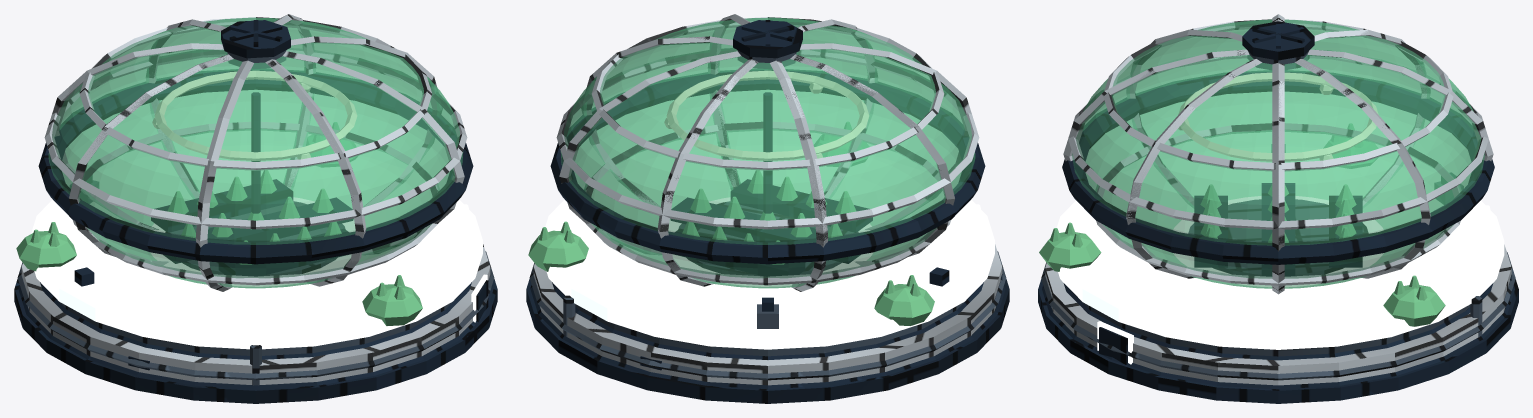
The model's file is HydroponicsDome.fbx.
3 renders of one model, left to right at view 1: azimuth 30°, elevation 25°; view 2: azimuth 150°, elevation 25°; view 3: azimuth 270°, elevation 25°, orthographic.
Visible parts, largest first — view 1: Hydro_Dome, Hydro_RimRing, Hydro_Ring_02, Hydro_BaseTier, Hydro_Plinth, Hydro_Ring_03, Hydro_Ring_04, Hydro_Ring_01, Hydro_TrimRing, Hydro_GrowRing, Hydro_Rib_08, Hydro_Rib_01 (+18 smaller); view 2: Hydro_Dome, Hydro_RimRing, Hydro_Ring_02, Hydro_BaseTier, Hydro_Plinth, Hydro_Ring_03, Hydro_Ring_04, Hydro_Ring_01, Hydro_TrimRing, Hydro_GrowRing, Hydro_Rib_04, Hydro_MidTier (+19 smaller); view 3: Hydro_Dome, Hydro_RimRing, Hydro_Ring_02, Hydro_BaseTier, Hydro_Plinth, Hydro_Ring_01, Hydro_Ring_04, Hydro_Ring_03, Hydro_TrimRing, Hydro_Floor, Hydro_Rib_04, Hydro_GrowRing (+19 smaller).
Boxes of the visible parts, x1,y1,x2,y2 form: Hydro_Dome: (48,17,463,288); Hydro_RimRing: (31,145,482,349); Hydro_Ring_02: (38,69,473,264); Hydro_BaseTier: (21,244,490,384); Hydro_Plinth: (14,279,497,403); Hydro_Ring_03: (44,48,467,229); Hydro_Ring_04: (79,17,432,170); Hydro_Ring_01: (73,121,439,285); Hydro_TrimRing: (17,251,494,380); Hydro_GrowRing: (154,70,357,160); Hydro_Rib_08: (63,43,464,252); Hydro_Rib_01: (77,36,442,261); Hydro_Dome: (560,17,975,288); Hydro_RimRing: (545,145,994,349); Hydro_Ring_02: (550,69,985,264); Hydro_BaseTier: (533,244,1002,385); Hydro_Plinth: (526,279,1009,403); Hydro_Ring_03: (556,48,979,229); Hydro_Ring_04: (591,17,944,170); Hydro_Ring_01: (584,121,950,285); Hydro_TrimRing: (529,251,1006,380); Hydro_GrowRing: (666,70,869,160); Hydro_Rib_04: (708,14,827,288); Hydro_MidTier: (558,288,977,356); Hydro_Dome: (1072,19,1484,288); Hydro_RimRing: (1056,147,1504,349); Hydro_Ring_02: (1062,70,1494,264); Hydro_BaseTier: (1045,244,1511,385); Hydro_Plinth: (1038,279,1518,403); Hydro_Ring_01: (1096,123,1460,285); Hydro_Ring_04: (1103,19,1453,171); Hydro_Ring_03: (1068,55,1488,229); Hydro_TrimRing: (1041,252,1515,380); Hydro_Floor: (1188,199,1368,276); Hydro_Rib_04: (1126,29,1427,278); Hydro_GrowRing: (1178,72,1378,161).
Bounding box in the file's own units: 2 × 1.23 × 2.
